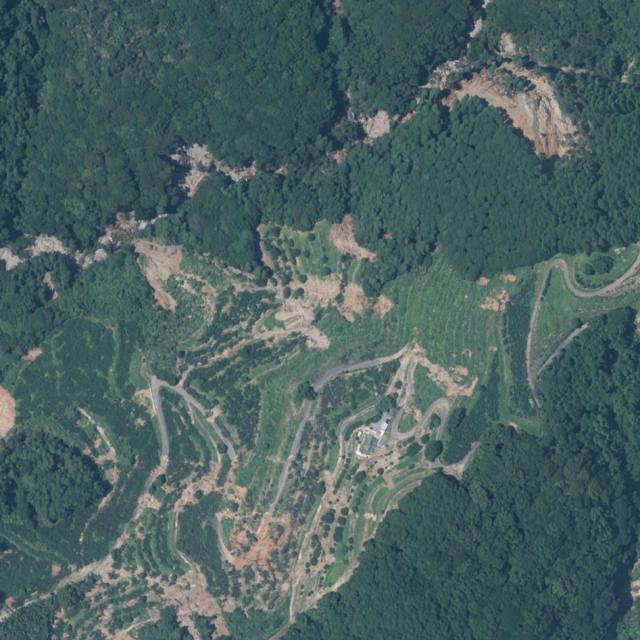landslide: (420, 32, 583, 159), (25, 213, 220, 311), (279, 268, 393, 321), (170, 143, 257, 204), (158, 575, 229, 640), (260, 223, 316, 271), (329, 214, 376, 267), (349, 109, 415, 144), (278, 302, 328, 347), (330, 214, 376, 261), (0, 389, 14, 437), (219, 269, 251, 290)
